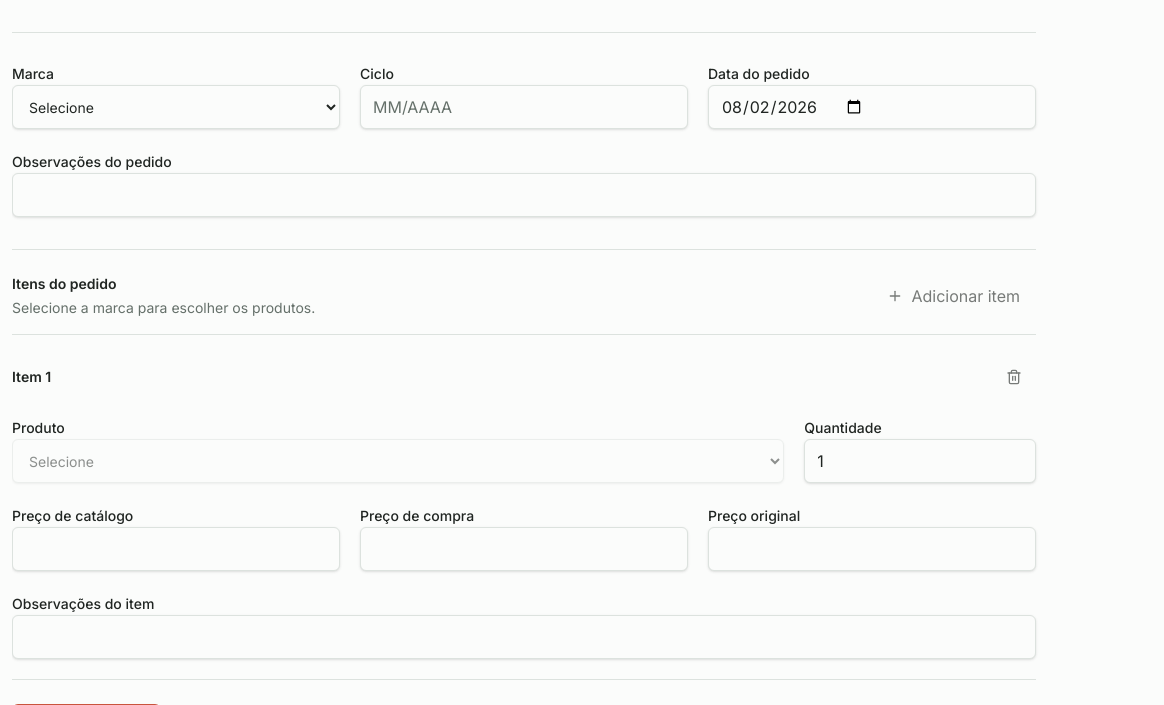
Test: CreateOrderForm › filters products by brand and fills the current price snapshots
Select "Natura" in the dropdown labelled "Marca" at (176, 107), box [12,85,340,129]
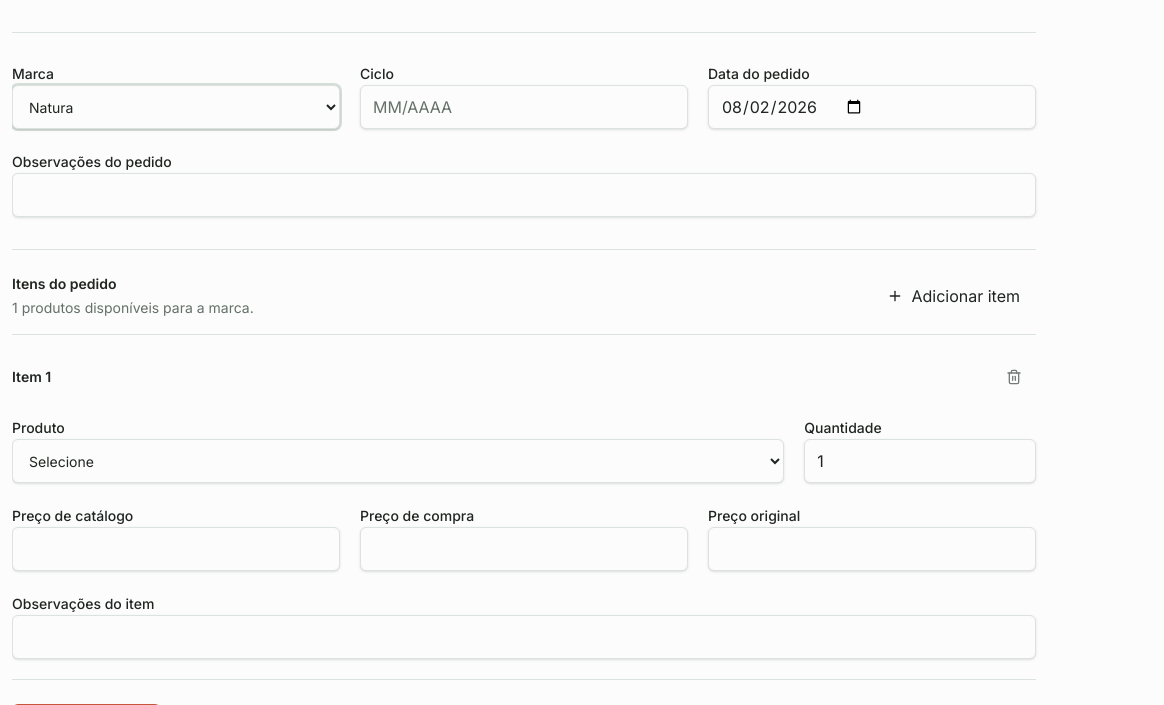
Select "PERF-001 · Essencial feminino" in the dropdown named "Produto do item 1" at (398, 461), box [12,439,784,483]
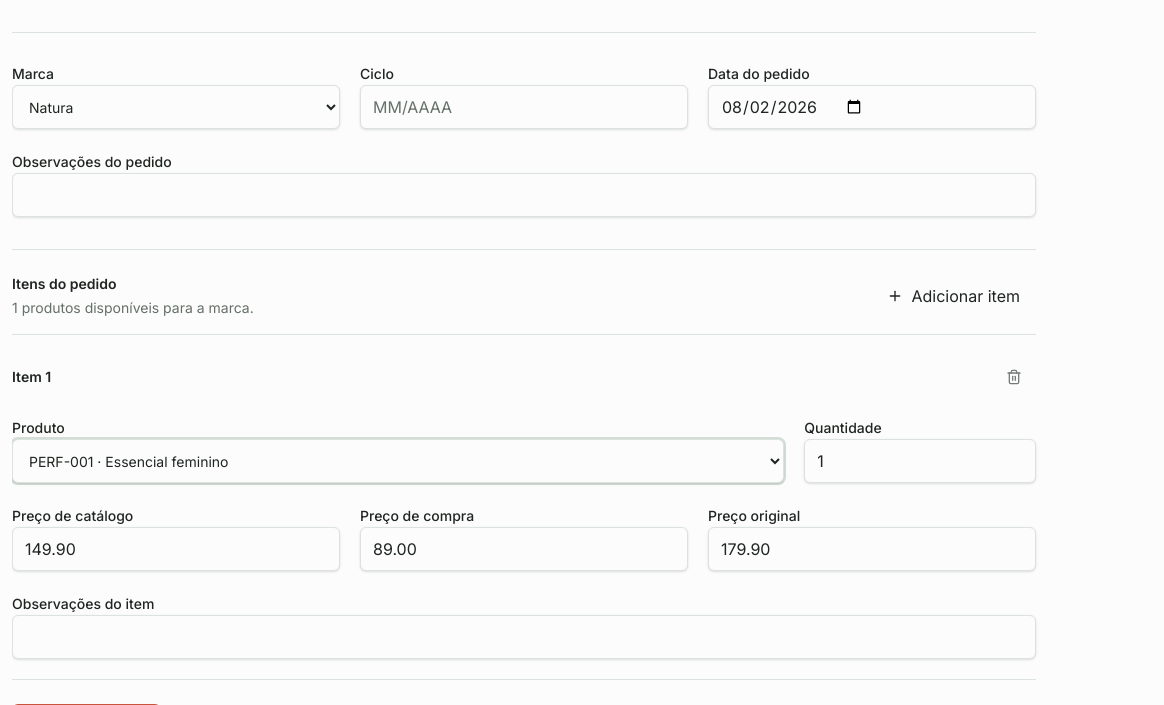
Check: the field named "Preço de catálogo do item 1" holds "149.90", box [12,527,340,571]
Check: the field named "Preço de compra do item 1" holds "89.00", box [360,527,688,571]
Check: the field named "Preço original do item 1" holds "179.90", box [708,527,1036,571]
